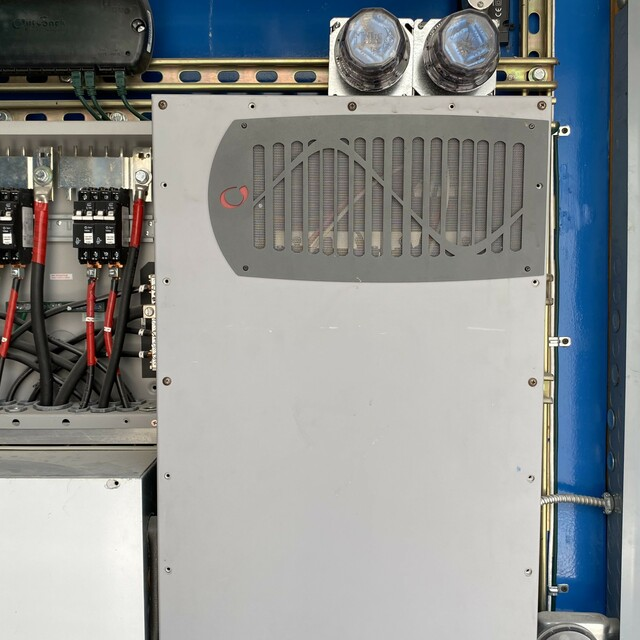inverter: (148, 92, 540, 640)
